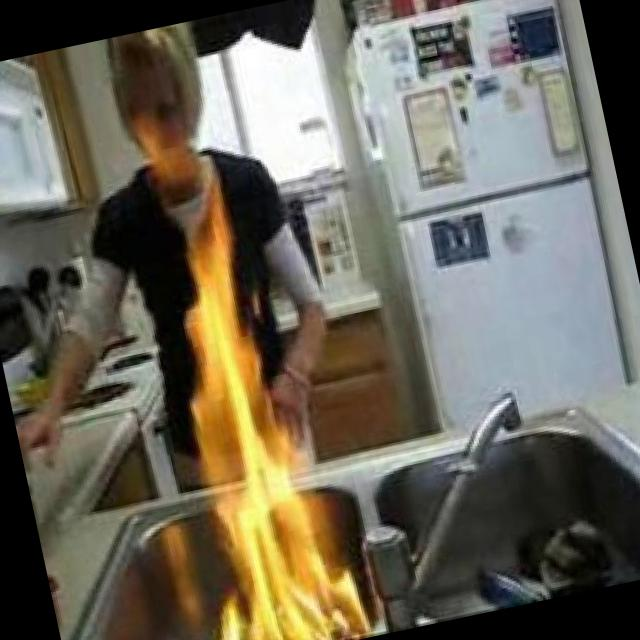Fire: (144, 188, 362, 640)
